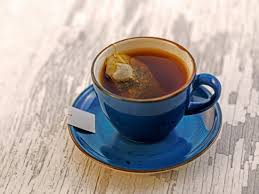cup: (62, 33, 227, 178)
